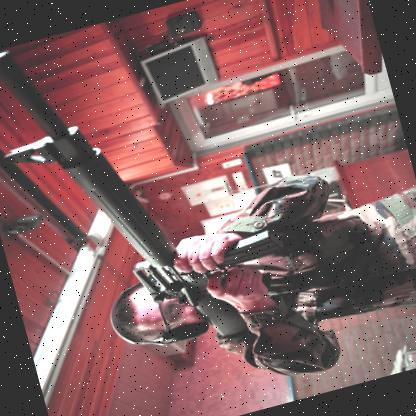rifle: (0, 0, 307, 401)
